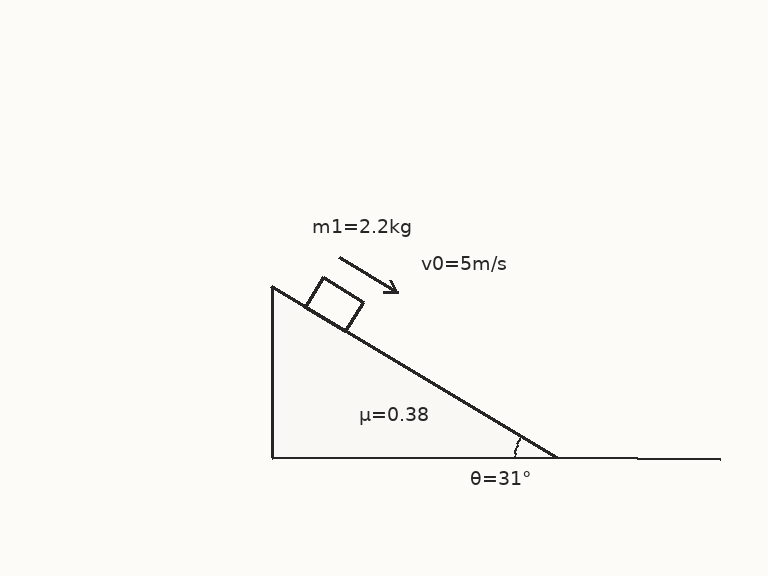block: (303, 276, 365, 333)
ramp: (269, 285, 557, 459)
